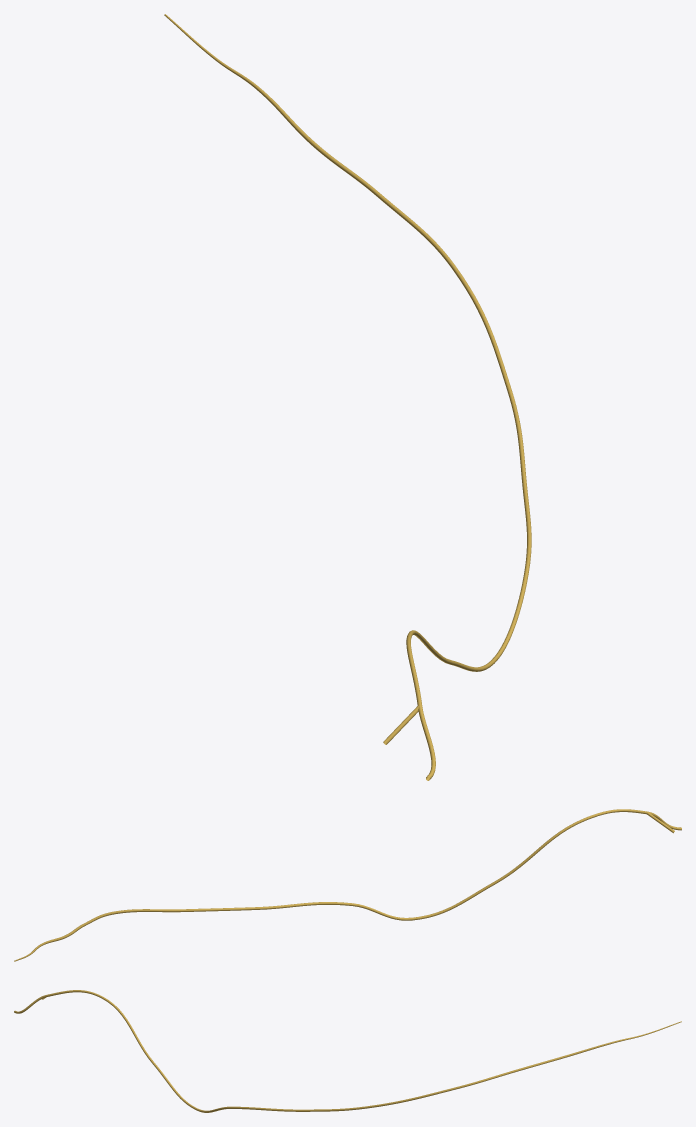
3 renders of one model, top to bottom at view 1: azimuth 30°, elevation 25°; view 2: azimuth 150°, elevation 25°; view 3: azimuth 270°, elevation 25°, orthographic. The views are drawn at different scales.
Visible parts, largest first — view 1: 左侧胸长神经; view 2: 左侧胸长神经; view 3: 左侧胸长神经.
Boxes of the visible parts, x1,y1,x2,y2 form: 左侧胸长神经: (164, 14, 531, 780); 左侧胸长神经: (14, 809, 681, 961); 左侧胸长神经: (14, 990, 681, 1112).
Size of the model in its own units: 0.1778 by 0.0885 by 0.4237.
